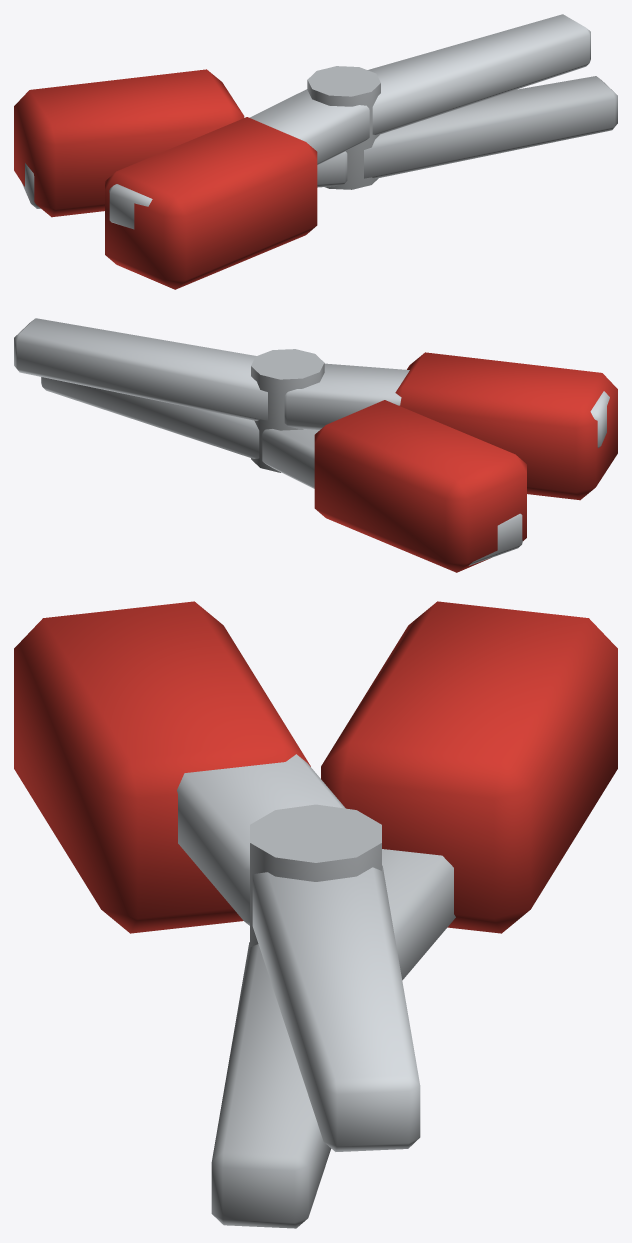
The model's file is SM_Pliers_01.glb.
The picture shows the model from 3 angles, top to bottom: view 1: azimuth 30°, elevation 25°; view 2: azimuth 150°, elevation 25°; view 3: azimuth 270°, elevation 25°; orthographic projection. The views are drawn at different scales.
Visible parts, largest first — view 1: SM_Pliers_01; view 2: SM_Pliers_01; view 3: SM_Pliers_01.
Boxes of the visible parts, x1,y1,x2,y2 form: SM_Pliers_01: (14,14,617,289); SM_Pliers_01: (14,318,617,572); SM_Pliers_01: (14,601,617,1228).
Bounding box in the file's own units: 0.189 × 0.033 × 0.1003.
1 material, 1 textured.
